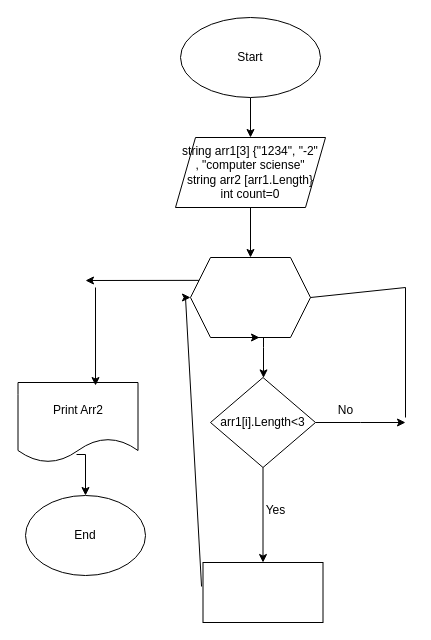
This 431x640 diagram has some shape labels left out. Each missing label, with the box of its shape:
arr2[count]=arr1[i] count++: (202, 562, 323, 622)
i=0, i<arr1.Length,i++: (190, 256, 310, 338)
